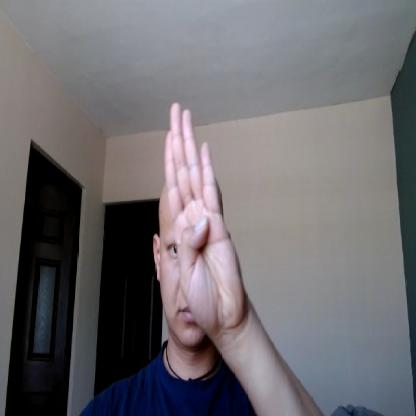B: (165, 102, 241, 330)
